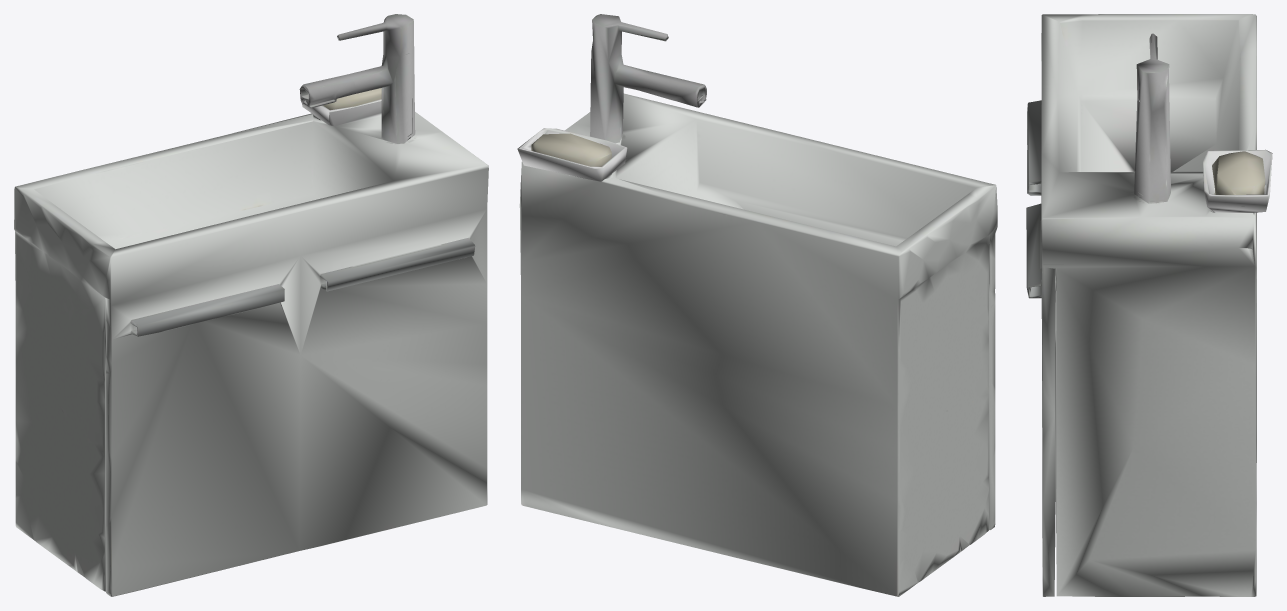
The model's file is vanity.glb.
3 views of the same model, side by side, from view 1: azimuth 30°, elevation 25°; view 2: azimuth 150°, elevation 25°; view 3: azimuth 270°, elevation 25° (orthographic). The views are drawn at different scales.
Parts seen in each view (by area): view 1: geometry_0; view 2: geometry_0; view 3: geometry_0.
Boxes of the visible parts, x1,y1,x2,y2 form: geometry_0: [14, 14, 488, 596]; geometry_0: [517, 14, 997, 596]; geometry_0: [1026, 14, 1272, 596].
Bounding box in the file's own units: 0.8704 × 1 × 0.4389.
1 material, 1 textured.
